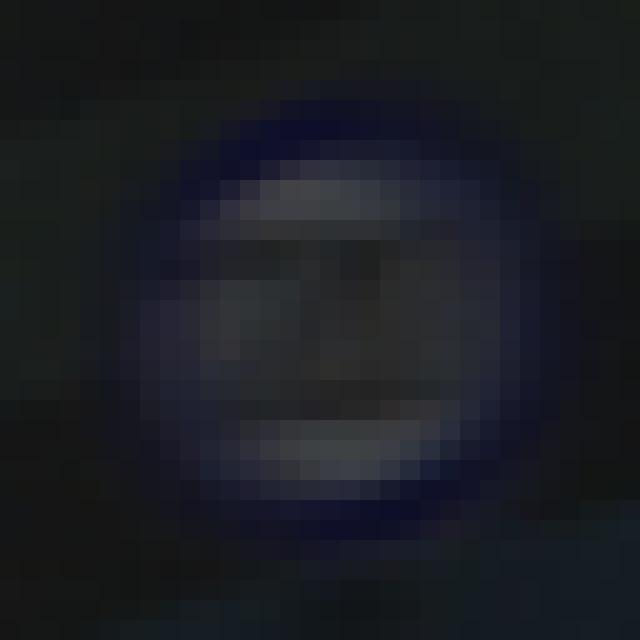SPEED LIMIT 120: (135, 133, 554, 511)
